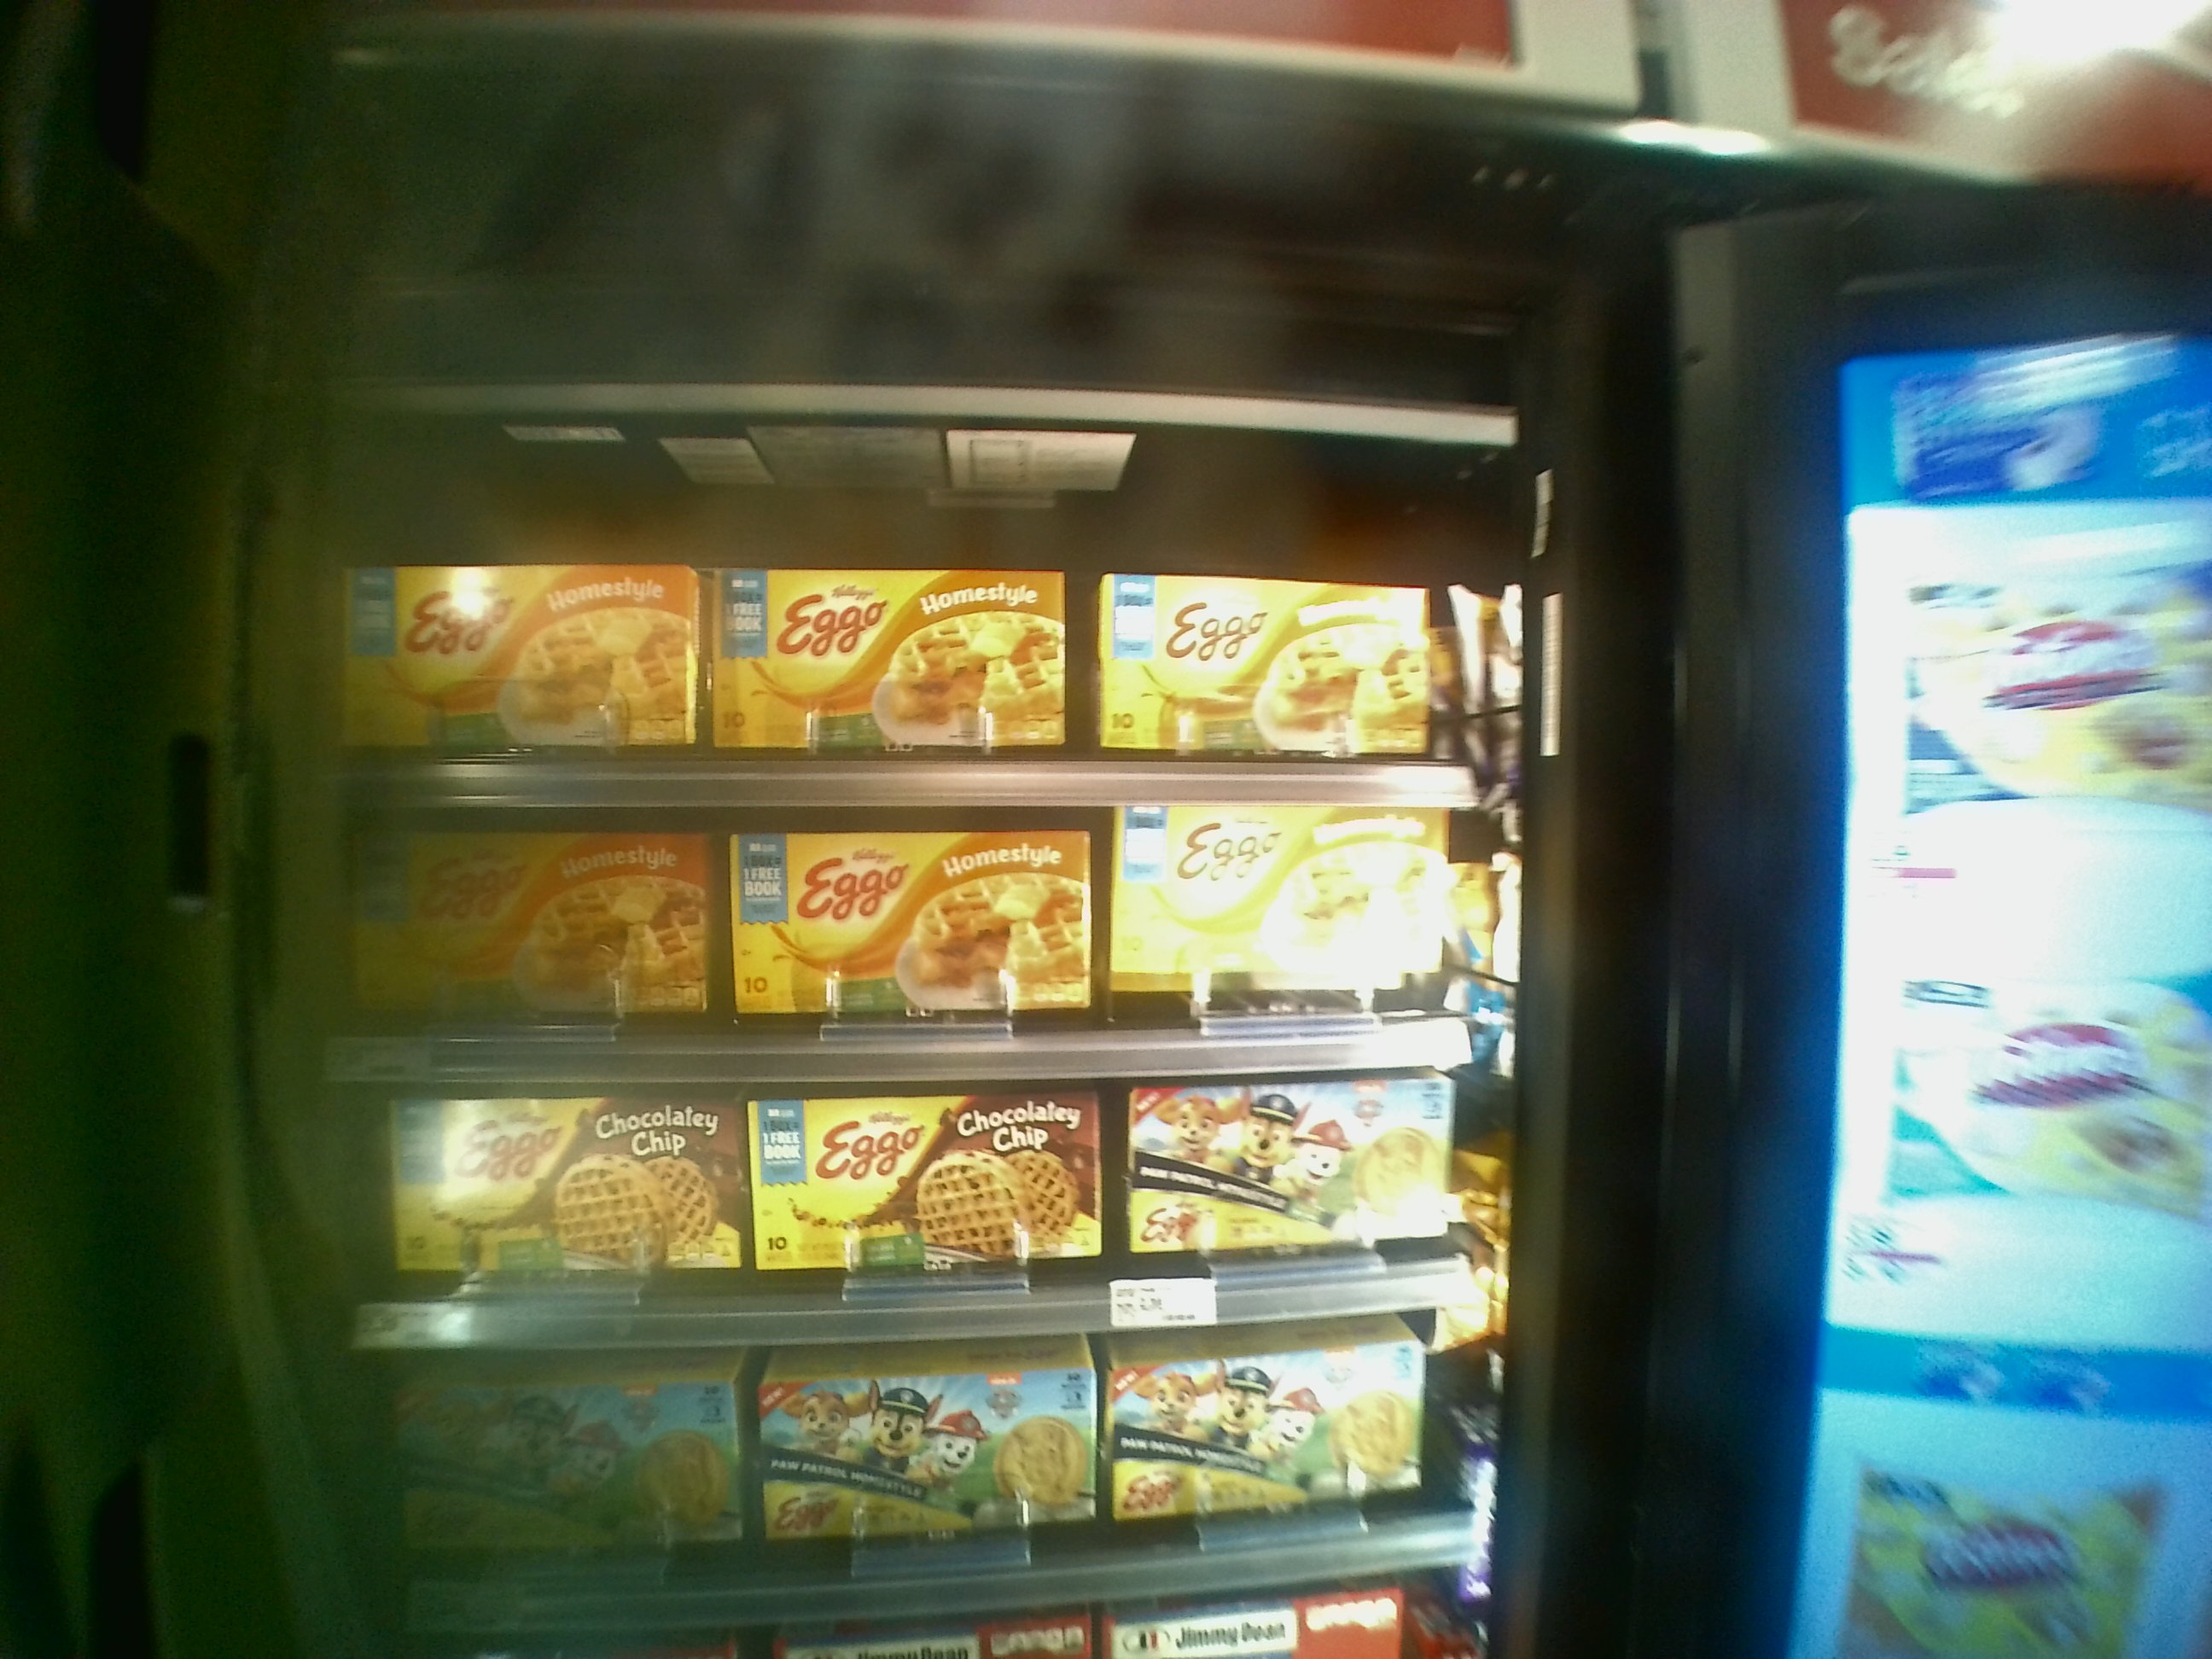shelf: (331, 404, 1498, 803), (343, 788, 1489, 1086), (350, 1058, 1474, 1349)
